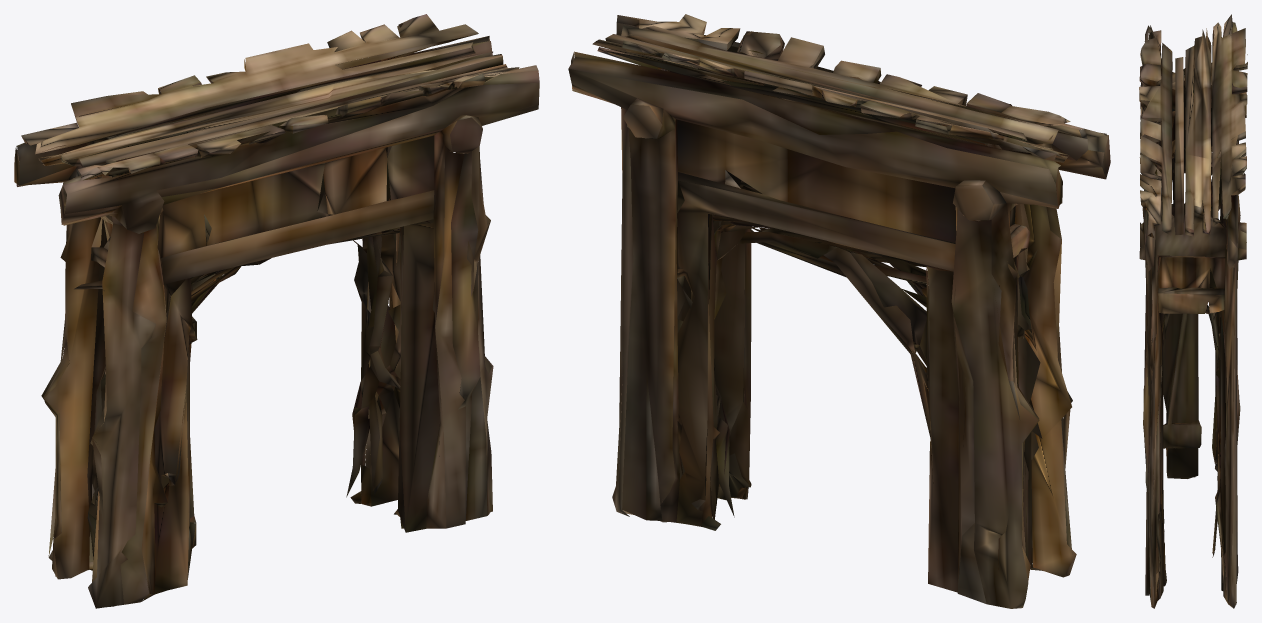
File: marco_bocamina.movil.glb
3 renders of one model, left to right at view 1: azimuth 30°, elevation 25°; view 2: azimuth 150°, elevation 25°; view 3: azimuth 270°, elevation 25°, orthographic. The views are drawn at different scales.
Visible parts, largest first — view 1: geometry_0; view 2: geometry_0; view 3: geometry_0.
Part boxes in pixels (x1,y1,x2,y2): geometry_0: (14, 14, 539, 608); geometry_0: (568, 14, 1110, 608); geometry_0: (1139, 14, 1247, 608).
Bounding box in the file's own units: 3.19 × 3 × 0.6996.
1 material, 1 textured.
